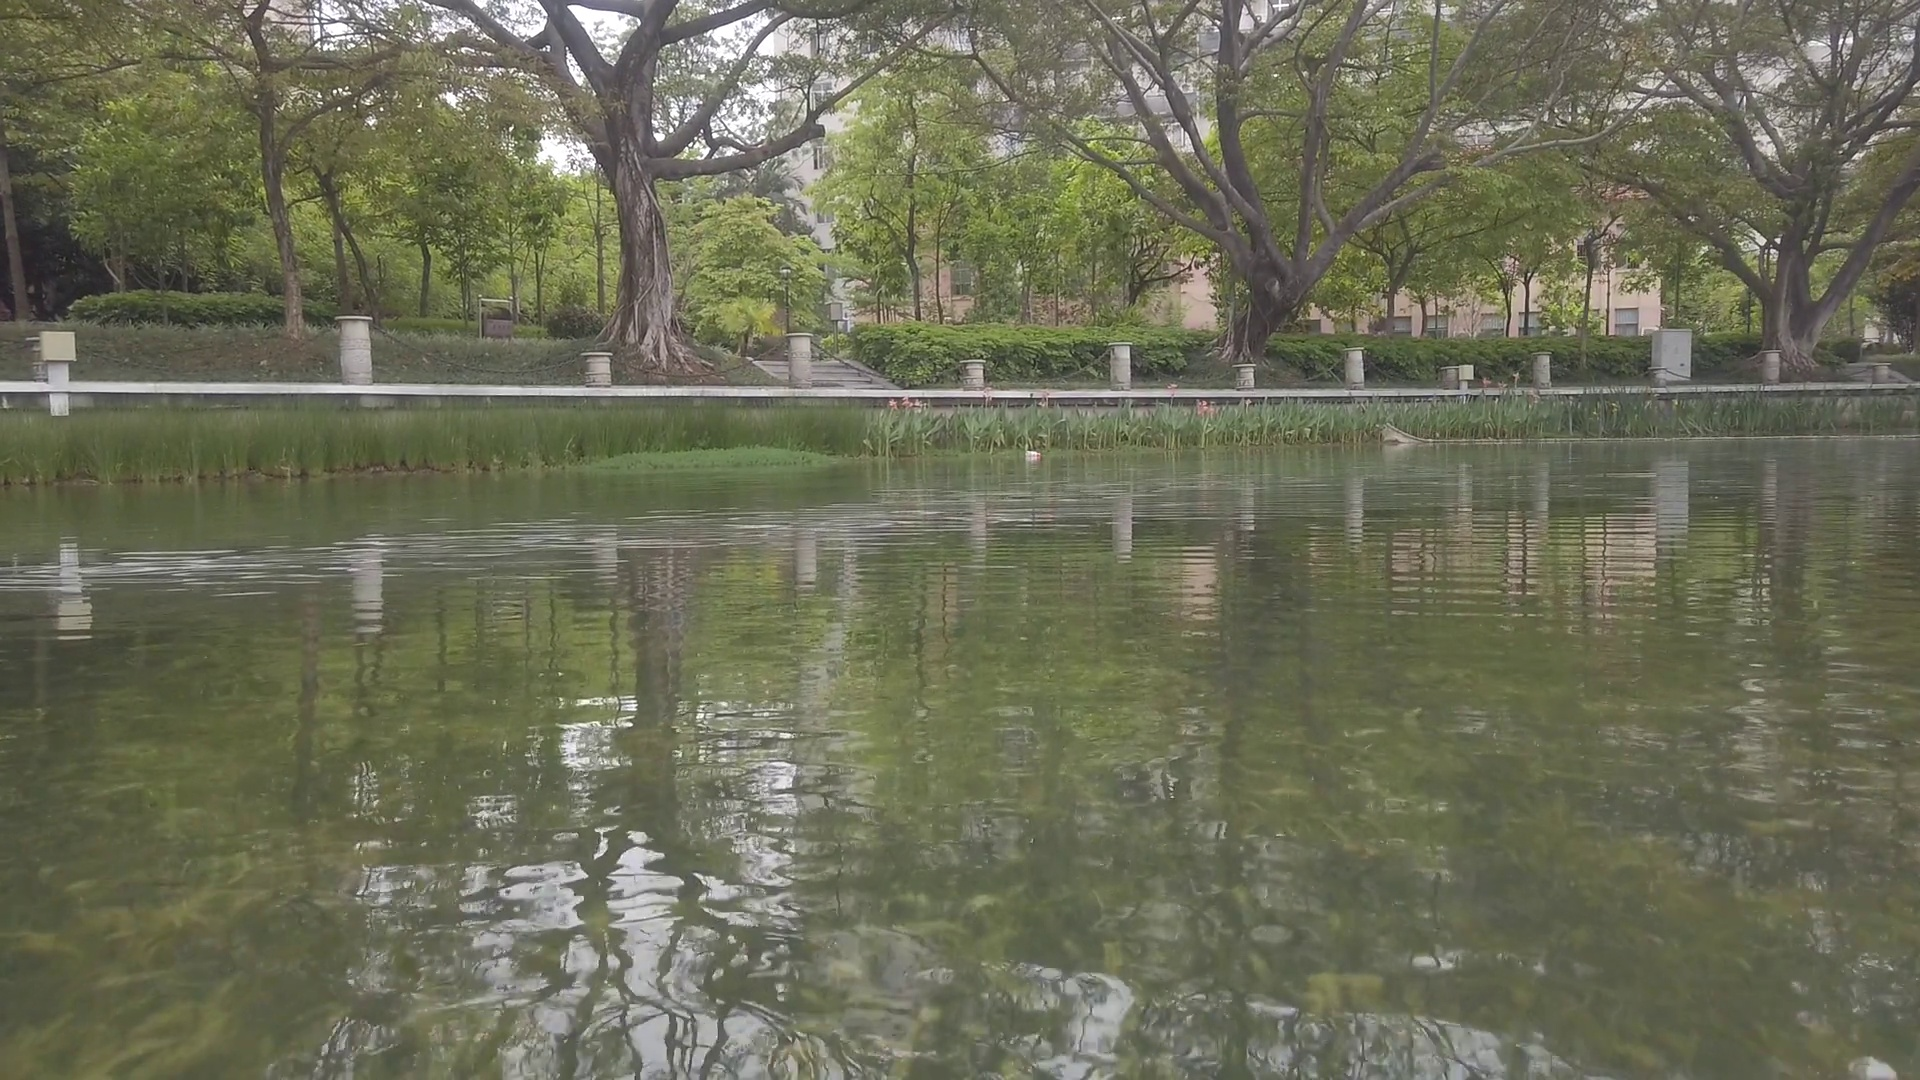bottle: (1026, 448, 1042, 458)
